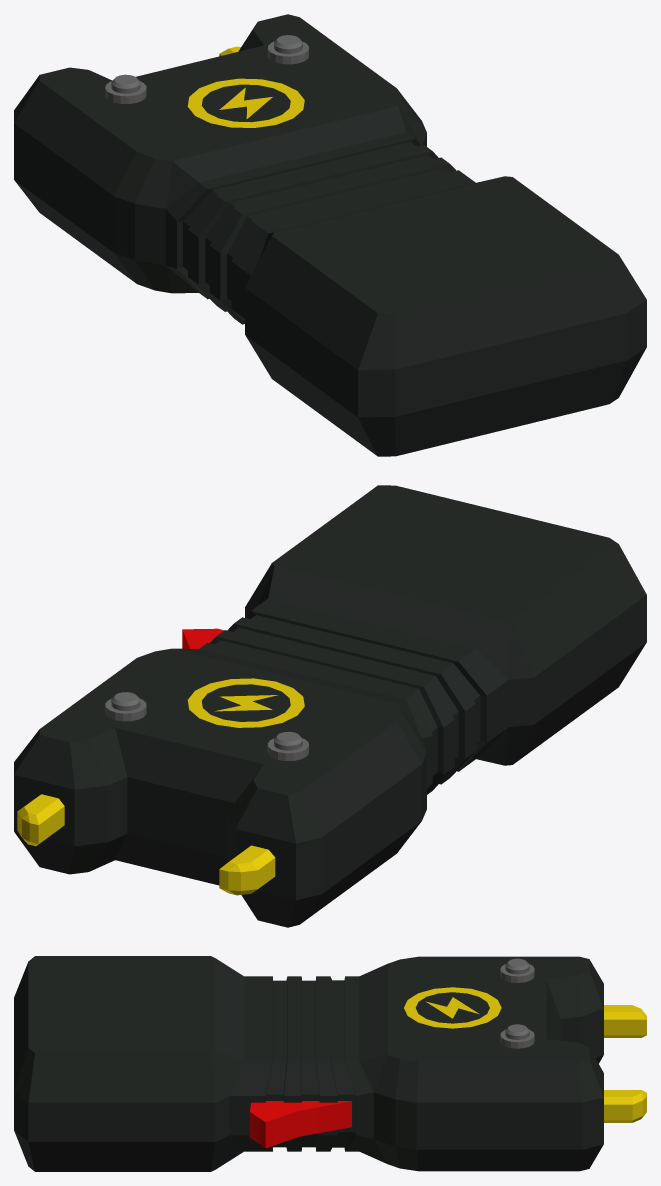
The model's file is StunGun.fbx.
The picture shows the model from 3 angles, top to bottom: view 1: azimuth 30°, elevation 25°; view 2: azimuth 150°, elevation 25°; view 3: azimuth 270°, elevation 25°; orthographic projection. The views are drawn at different scales.
Visible parts, largest first — view 1: Plane, Circle; view 2: Plane, Cube.022, Circle, Cube.023; view 3: Plane, Cube.023, Cube.022, Circle, Cylinder.013, Cylinder.014, Plane.001, Cylinder.019, Cylinder.015.
Part boxes in pixels (box(x1,y1,x2,y2)): Plane: box(14, 14, 646, 456); Circle: box(187, 78, 304, 127); Plane: box(14, 485, 646, 927); Cube.022: box(17, 794, 275, 895); Circle: box(187, 678, 304, 727); Cube.023: box(182, 628, 223, 648); Plane: box(14, 956, 603, 1171); Cube.023: box(250, 1101, 351, 1148); Cube.022: box(604, 1005, 646, 1122); Circle: box(404, 987, 501, 1028); Cylinder.013: box(500, 1029, 534, 1048); Cylinder.014: box(500, 964, 534, 982); Plane.001: box(426, 997, 479, 1018); Cylinder.019: box(505, 958, 529, 974); Cylinder.015: box(505, 1024, 529, 1039).
Bounding box in the file's own units: 220 × 98 × 440.
